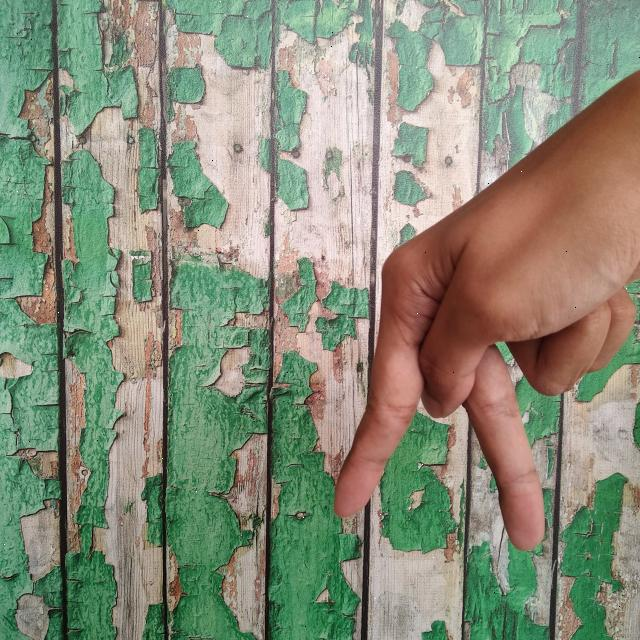P: (322, 0, 640, 560)
